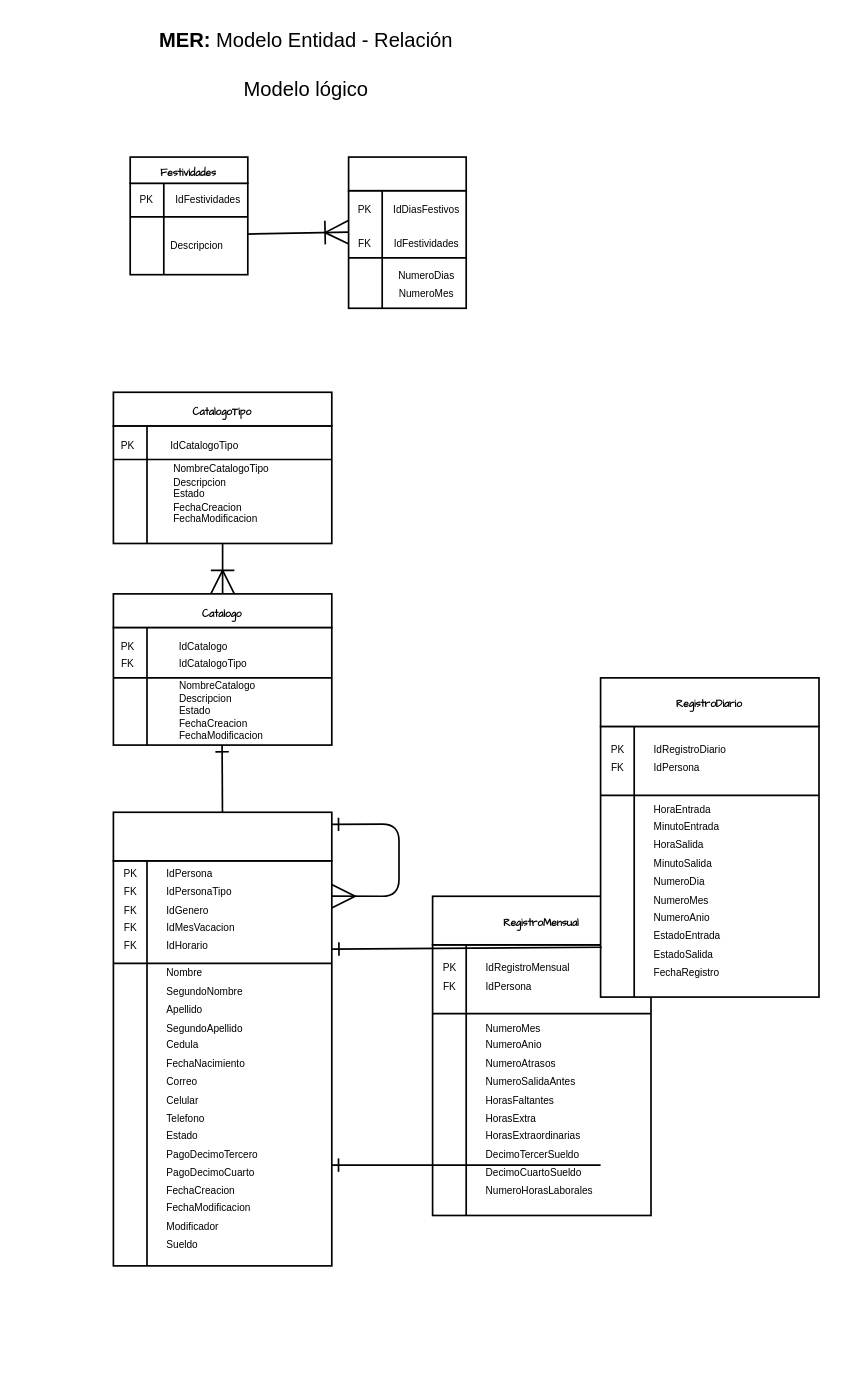
Image size: 867x1379. Some labels were removed from this diagram. The shapes that lost their labels are listed below. From the top down, each one's box as (x1, y1, x2, y2) in pixels, then its label:
(347, 155, 466, 191): DiasFestivos
(112, 811, 332, 861): RegistroPersona
